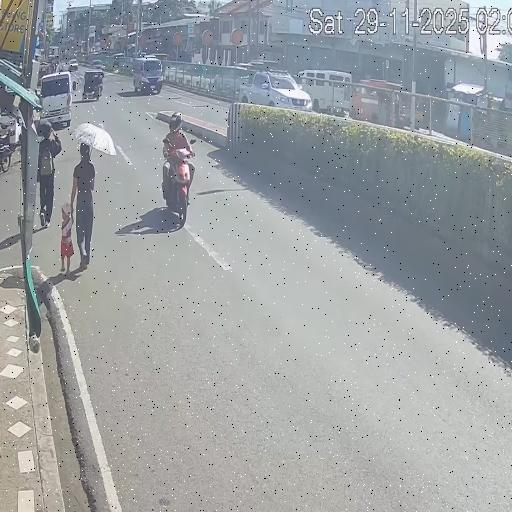Helmet: (169, 112, 183, 132)
Motor: (162, 148, 194, 226)
